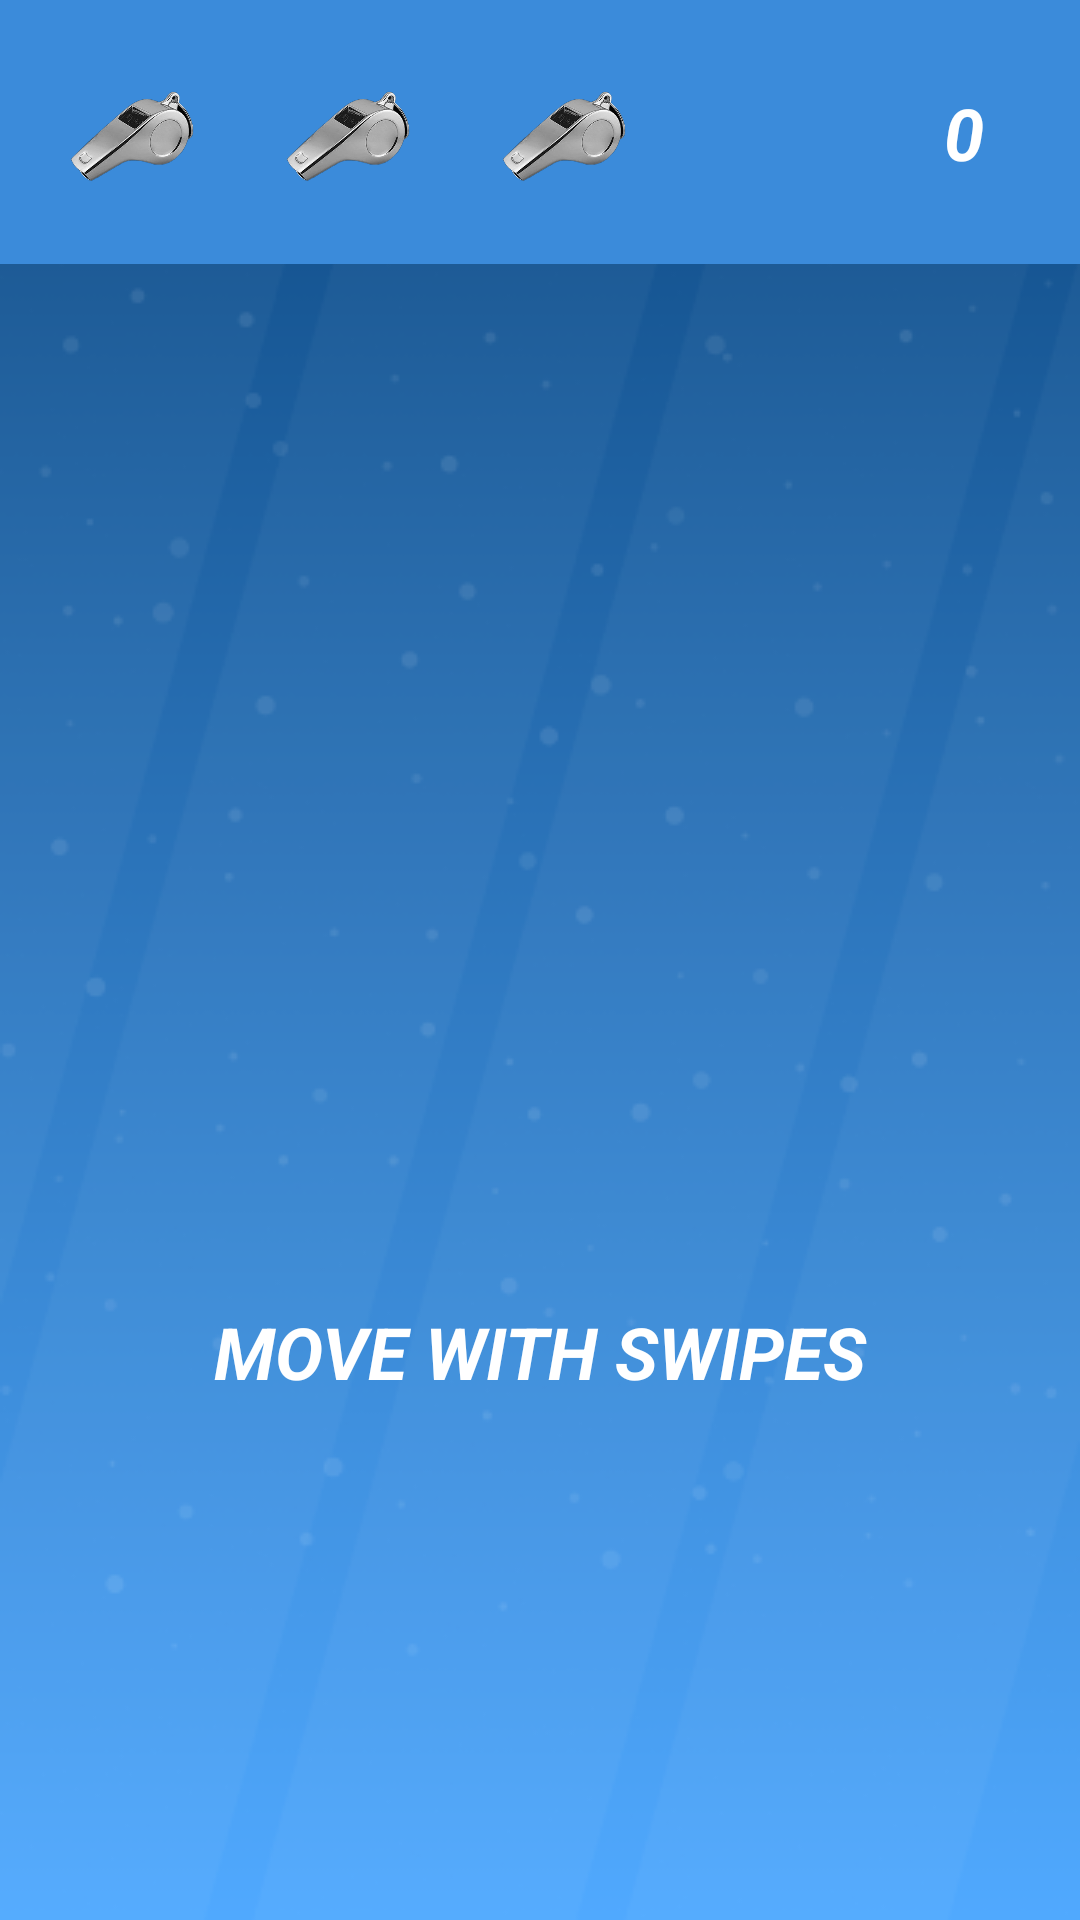

Locate icon controls on the screen. Image size 1080×1920, boxes as (x1, y1, x2, y2).
whistle: (71, 92, 193, 181), (287, 92, 409, 181), (503, 92, 625, 181)
